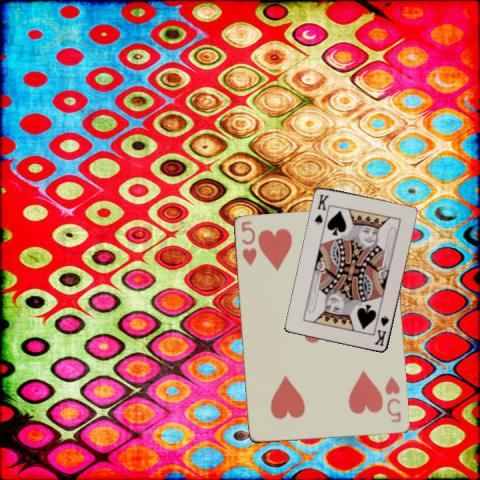5h: (382, 373, 403, 424), (238, 218, 258, 269)
Ks: (312, 191, 330, 227), (372, 314, 391, 348)
